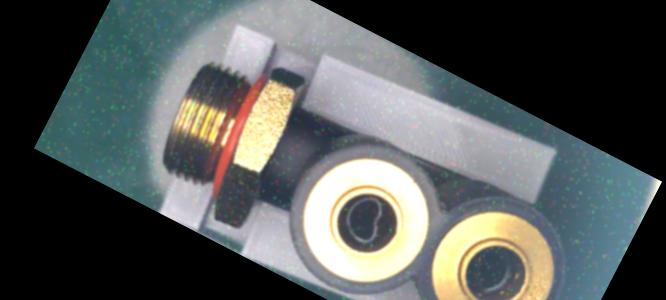joint line: (270, 152, 305, 176)
off-centered: (328, 179, 400, 254), (455, 236, 525, 300)
